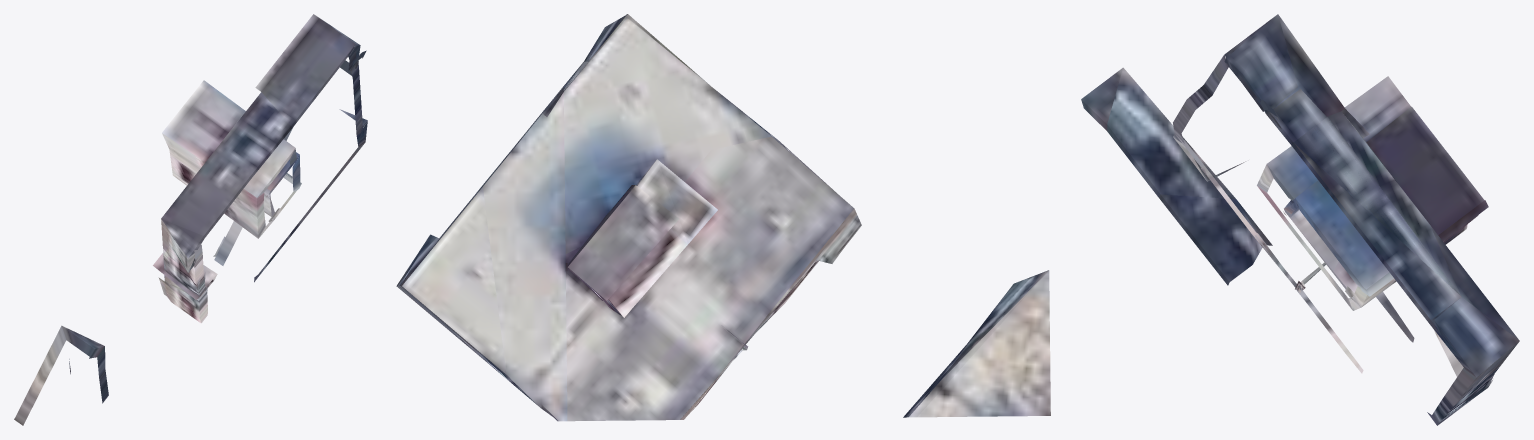
3 views of the same model, side by side, from view 1: azimuth 30°, elevation 25°; view 2: azimuth 150°, elevation 25°; view 3: azimuth 270°, elevation 25° (orthographic). The views are drawn at different scales.
Bounding box in the file's own units: 43.66 × 28.79 × 27.31.
1 material, 1 textured.
